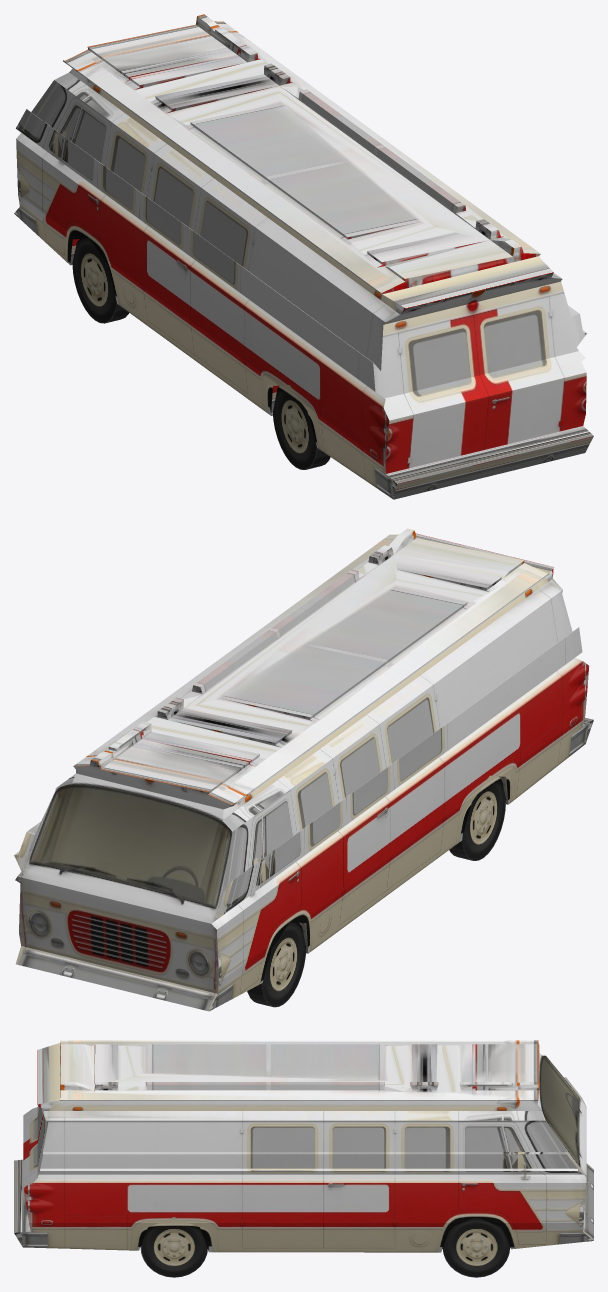
File: ambulance.glb
The picture shows the model from 3 angles, top to bottom: view 1: azimuth 30°, elevation 25°; view 2: azimuth 150°, elevation 25°; view 3: azimuth 270°, elevation 25°; orthographic projection. The views are drawn at different scales.
Parts seen in each view (by area): view 1: ambulance, wheel_BL, wheel_FL; view 2: ambulance, wheel_FL, wheel_BL; view 3: ambulance, wheel_FR, wheel_BR.
Boxes of the visible parts, <box> form: ambulance: <box>14,14,593,499</box>; wheel_BL: <box>273,385,330,469</box>; wheel_FL: <box>72,238,128,323</box>; ambulance: <box>14,528,593,1011</box>; wheel_FL: <box>247,922,306,1007</box>; wheel_BL: <box>449,775,505,860</box>; ambulance: <box>14,1040,593,1252</box>; wheel_FR: <box>442,1217,510,1277</box>; wheel_BR: <box>140,1217,207,1277</box>.
Size of the model in its own units: 2.23 by 2.39 by 6.99.
Materials: 3 (1 with a texture image).
